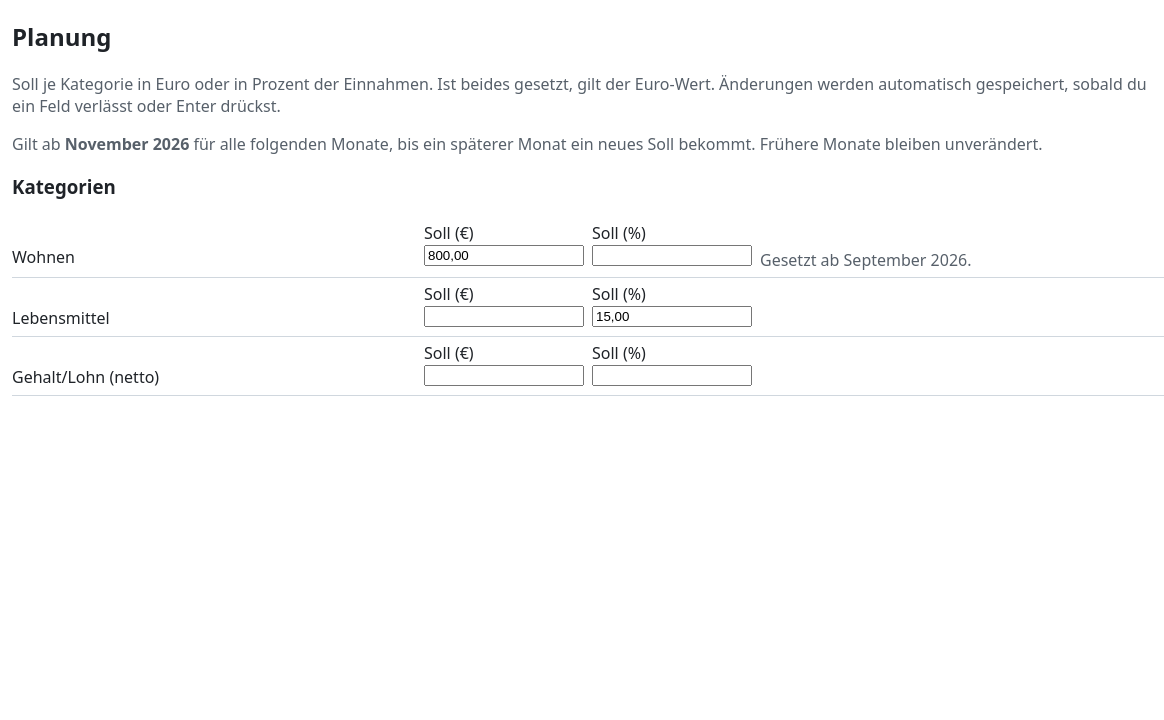
it: PlanningPage › rejects a negative euro target without sending a request
This screenshot has width=1164, height=720.
Replace the text in the field labelled "Soll (€)" in the row of "Gesetzt ab" with "-5" at x=504, y=256, box [424,245,584,266]
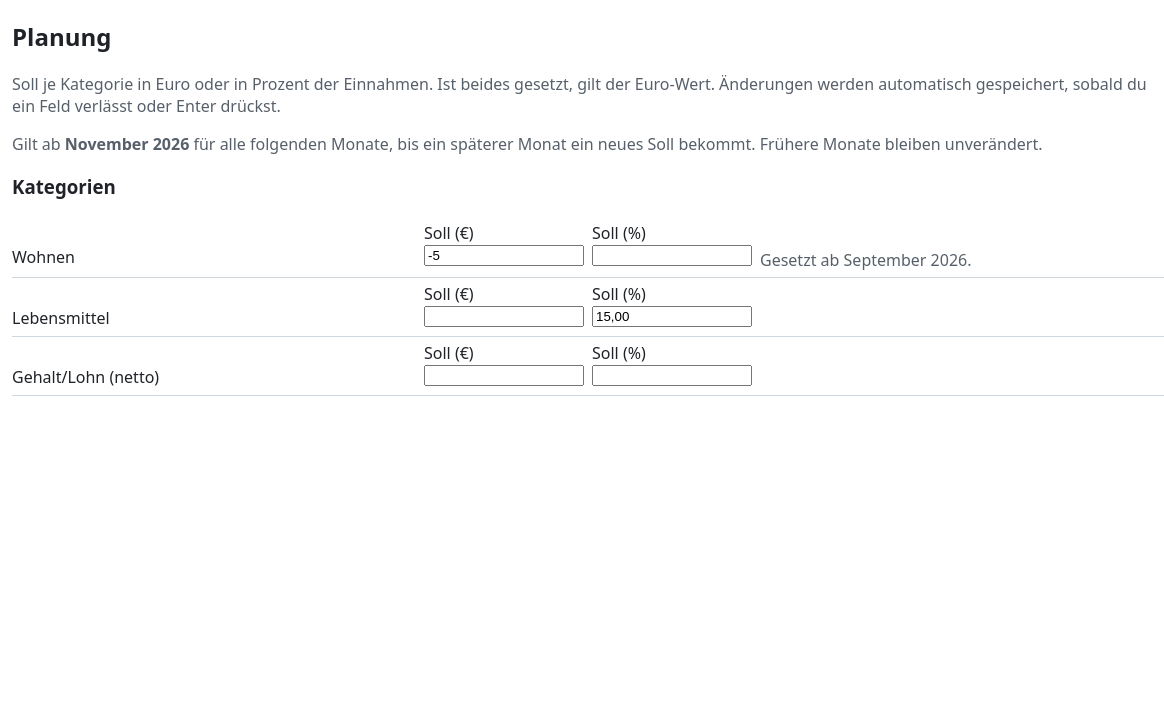
Leave the field labelled "Soll (€)" in the row of "Gesetzt ab", box [424,245,584,266]
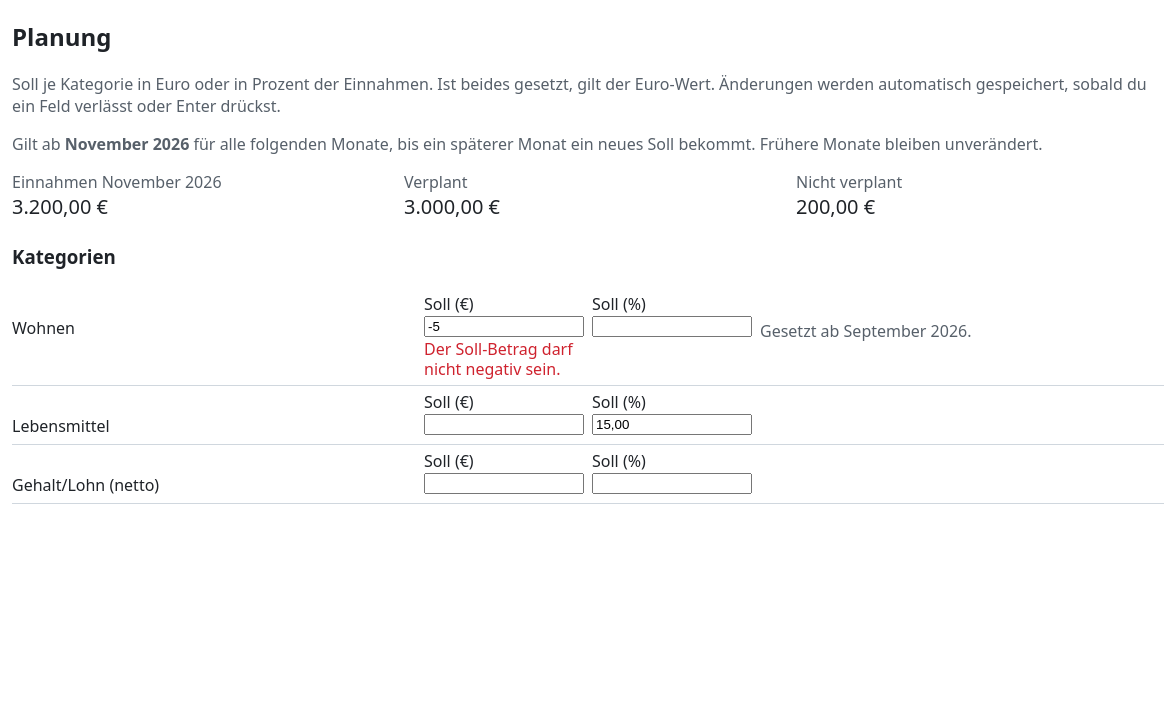
Expected: the text "Der Soll-Betrag darf nicht negativ sein." is shown, [424,338,584,378]
